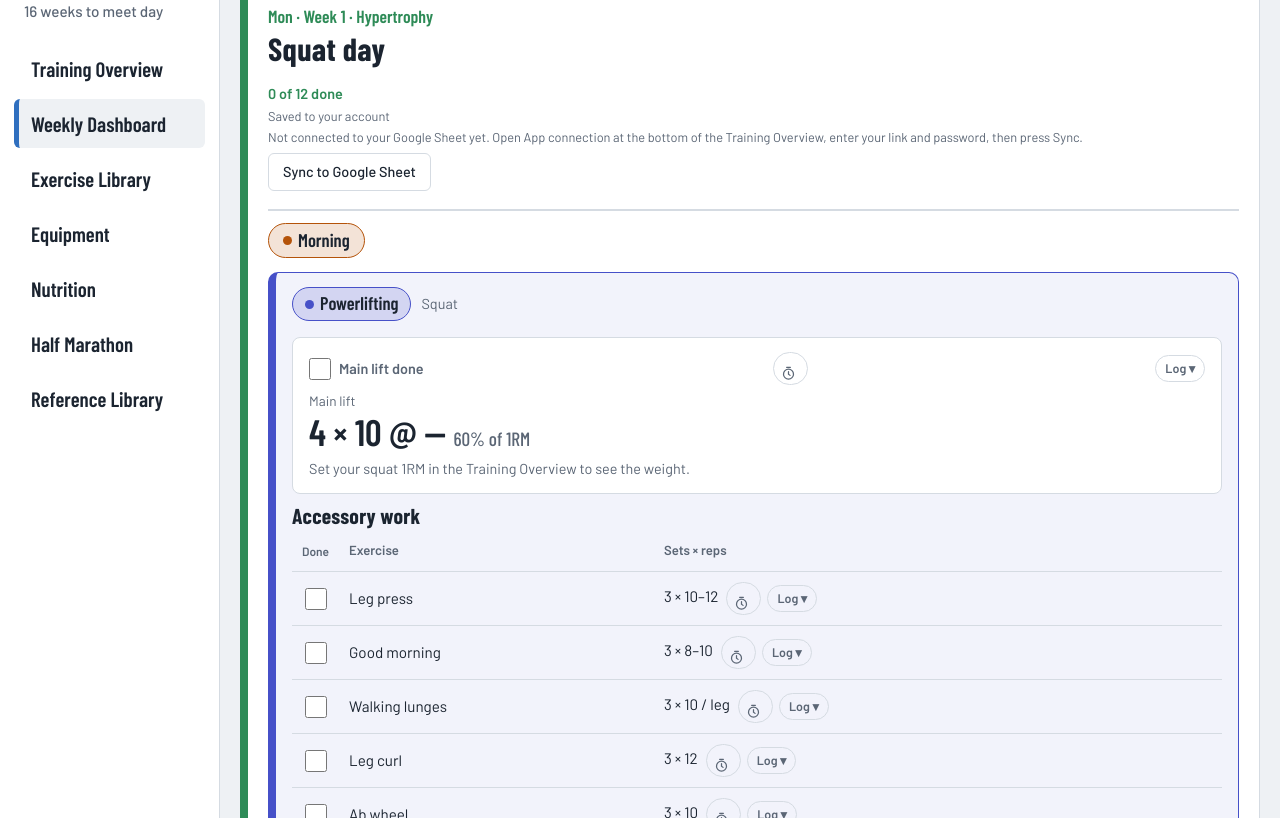
weekly dashboard › rest timer starts, pauses and closes
This screenshot has width=1280, height=818.
(page scrolled)
Click the button named "Rest timer for Main lift": (790, 368) [773,352,808,385]
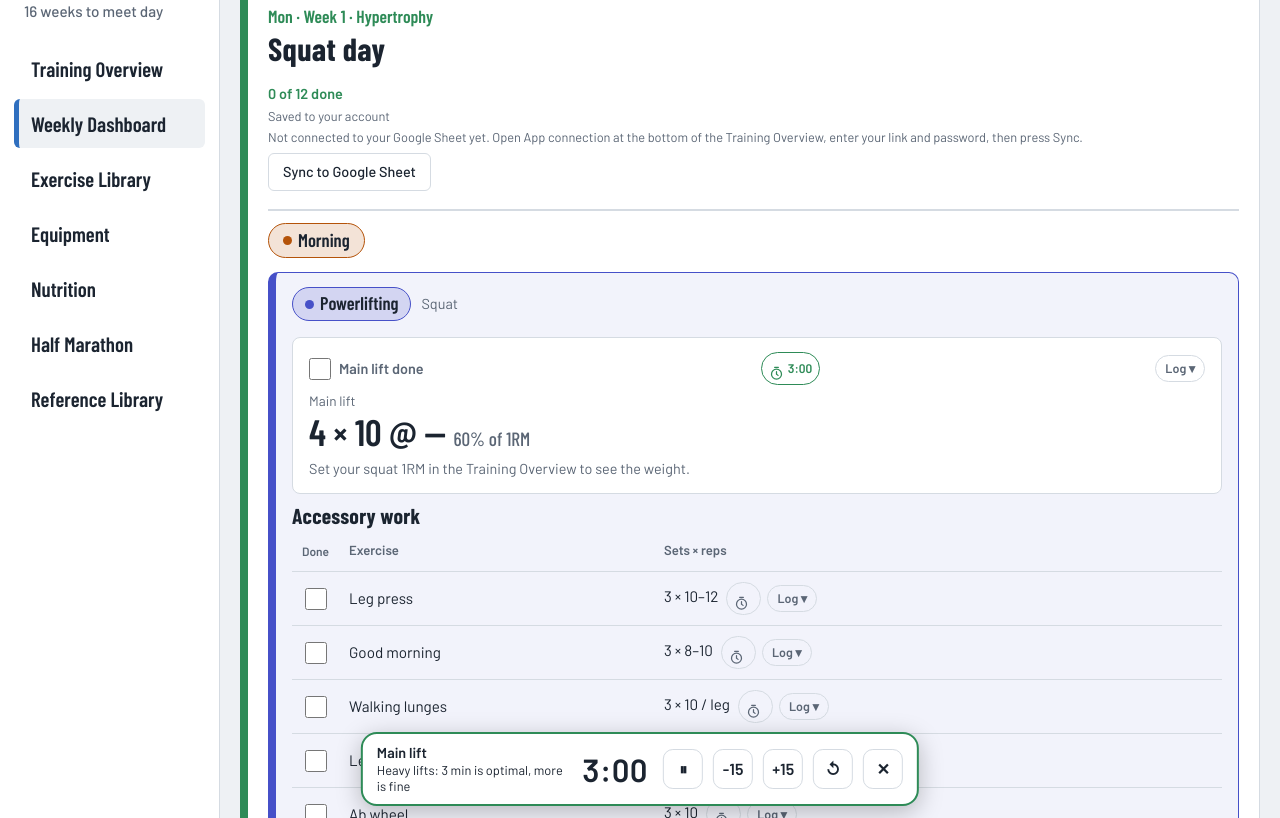
Result: the element with id "rtbar" is shown at [361,732,919,806]
Result: the text with id "rtdigits" reads "3:00" at [582,750,648,788]
Click the button with id "rtpause": (683, 769) [663,749,703,789]
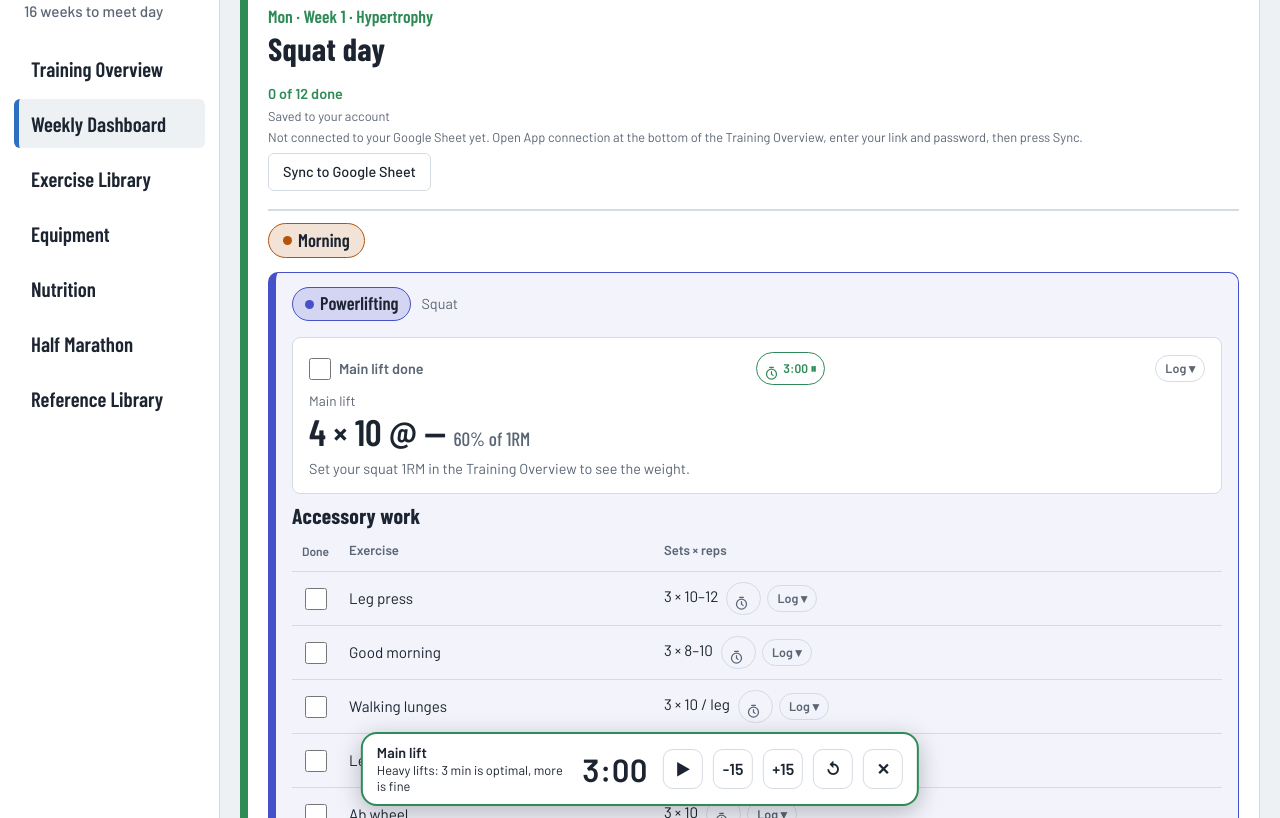
Result: the button with id "rtpause" reads "▶" at [663,749,703,789]
Click the button with id "rtclose": (883, 769) [863,749,903,789]
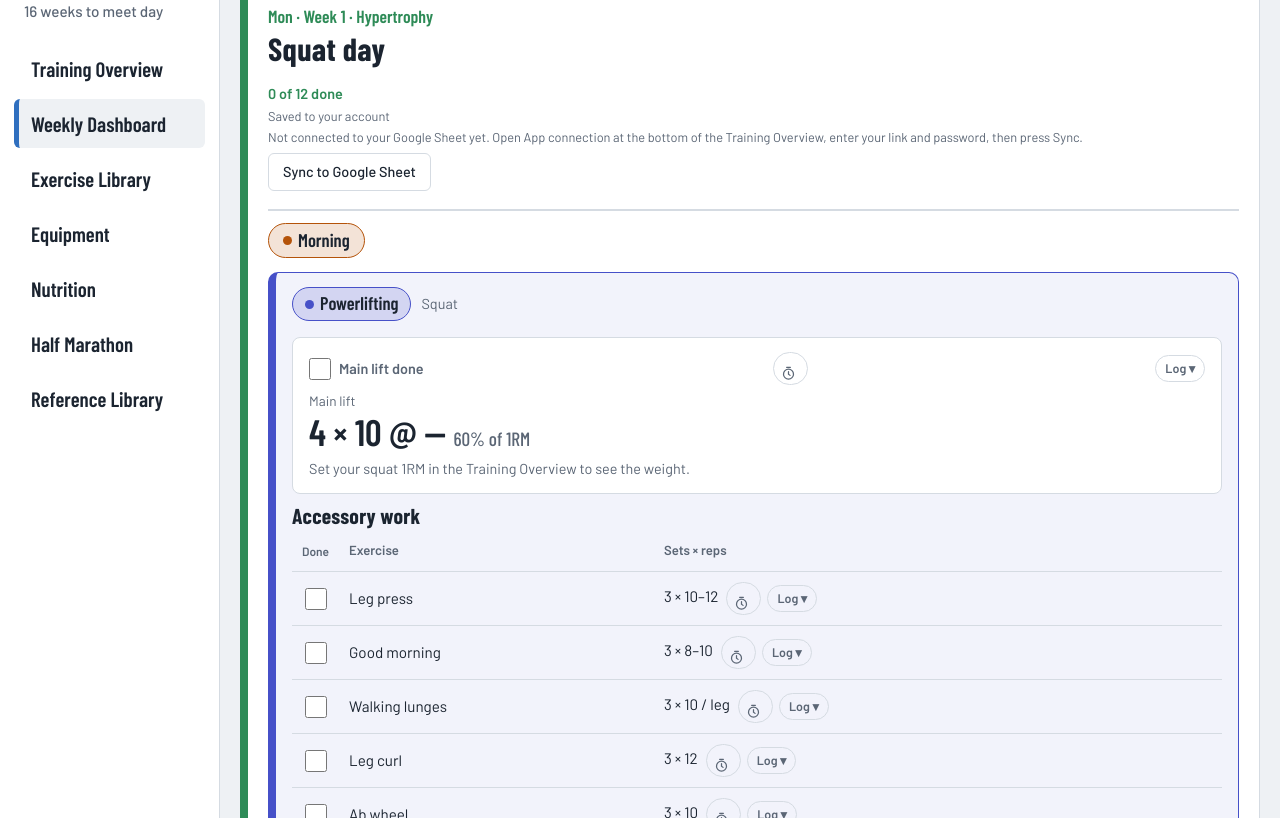
Result: the element with id "rtbar" is gone
